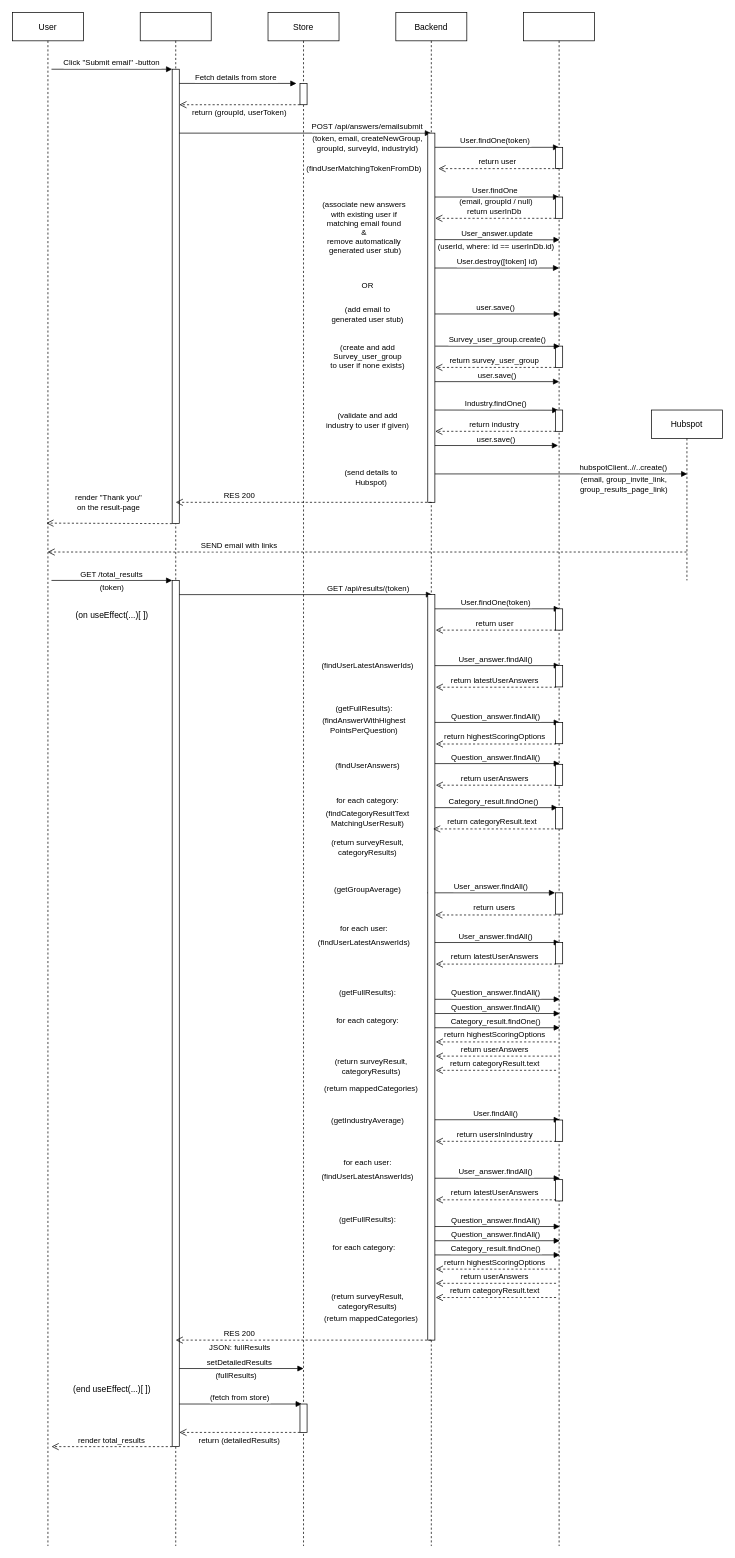
Image size: 735x1558. Some labels were removed from this diagram. Each missing label, with the box of its shape:
Database: (523, 12, 595, 1546)
Frontend: (140, 12, 211, 1546)
